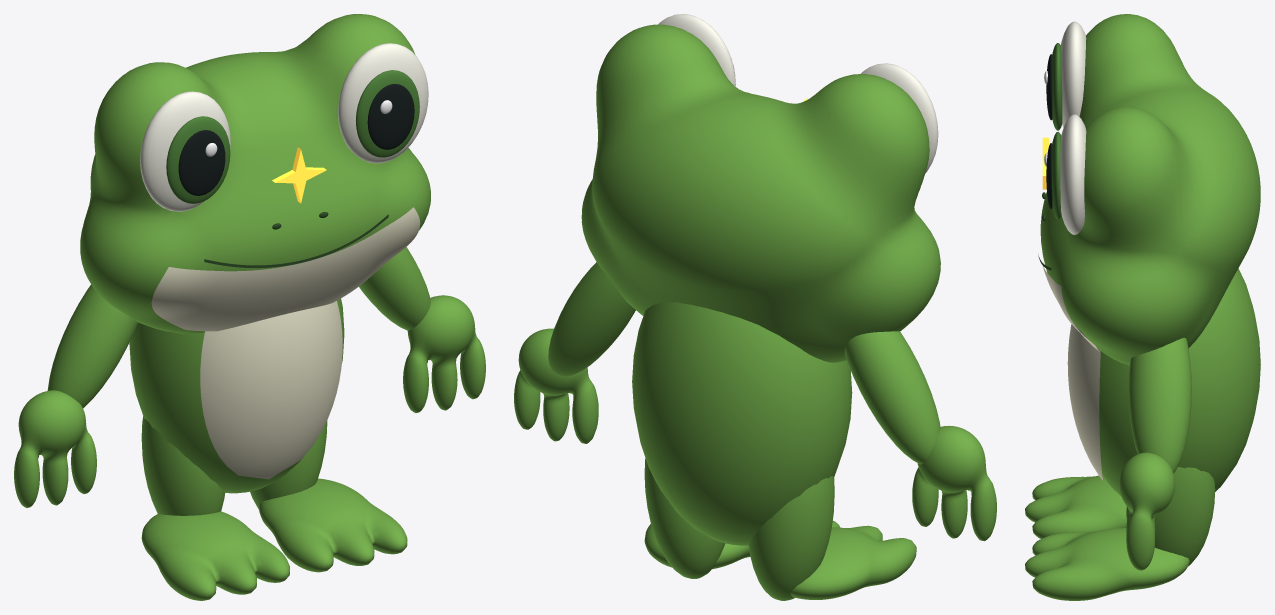
Rendered from sparky.glb.
3 views of the same model, side by side, from view 1: azimuth 30°, elevation 25°; view 2: azimuth 150°, elevation 25°; view 3: azimuth 270°, elevation 25° (orthographic). The views are drawn at different scales.
Parts seen in each view (by area): view 1: HeadVolume, CreamBelly, CreamChin, PearBody, FootVolume_L, FootVolume_R, HandVolume_L, HandVolume_R, UpperArm_L, Thigh_L, EyeWhite_L, EyeWhite_R (+7 smaller); view 2: HeadVolume, PearBody, UpperArm_L, HandVolume_L, Thigh_L, HandVolume_R, UpperArm_R, FootVolume_L, Thigh_R, EyeWhite_L, EyeWhite_R, FootVolume_R; view 3: HeadVolume, PearBody, FootVolume_R, UpperArm_R, FootVolume_L, HandVolume_R, Thigh_R, CreamBelly, EyeWhite_R, EyeWhite_L, Iris_L, Iris_R (+3 smaller).
Part boxes in pixels (x1,y1,x2,y2): HeadVolume: [80, 14, 430, 333]; CreamBelly: [200, 301, 342, 479]; CreamChin: [151, 207, 420, 331]; PearBody: [129, 298, 344, 493]; FootVolume_L: [141, 511, 289, 600]; FootVolume_R: [259, 478, 407, 572]; HandVolume_L: [14, 390, 96, 507]; HandVolume_R: [403, 295, 485, 412]; UpperArm_L: [47, 284, 137, 408]; Thigh_L: [141, 416, 224, 515]; EyeWhite_L: [140, 91, 230, 211]; EyeWhite_R: [338, 43, 428, 163]; HeadVolume: [581, 24, 940, 362]; PearBody: [632, 302, 852, 545]; UpperArm_L: [844, 331, 940, 464]; HandVolume_L: [912, 425, 996, 541]; Thigh_L: [748, 476, 834, 600]; HandVolume_R: [514, 328, 598, 443]; UpperArm_R: [548, 262, 635, 376]; FootVolume_L: [790, 520, 916, 599]; Thigh_R: [644, 458, 725, 578]; EyeWhite_L: [861, 63, 938, 173]; EyeWhite_R: [658, 14, 735, 86]; FootVolume_R: [644, 524, 750, 569]; HeadVolume: [1040, 14, 1260, 365]; PearBody: [1099, 268, 1260, 496]; FootVolume_R: [1025, 528, 1189, 600]; UpperArm_R: [1128, 337, 1191, 473]; FootVolume_L: [1025, 475, 1126, 538]; HandVolume_R: [1119, 452, 1175, 570]; Thigh_R: [1154, 467, 1215, 566]; CreamBelly: [1067, 323, 1102, 479]; EyeWhite_R: [1060, 114, 1086, 234]; EyeWhite_L: [1060, 21, 1086, 127]; Iris_L: [1052, 43, 1062, 130]; Iris_R: [1052, 132, 1061, 219].
Size of the model in its own units: 2.79 by 2.89 by 1.27.
